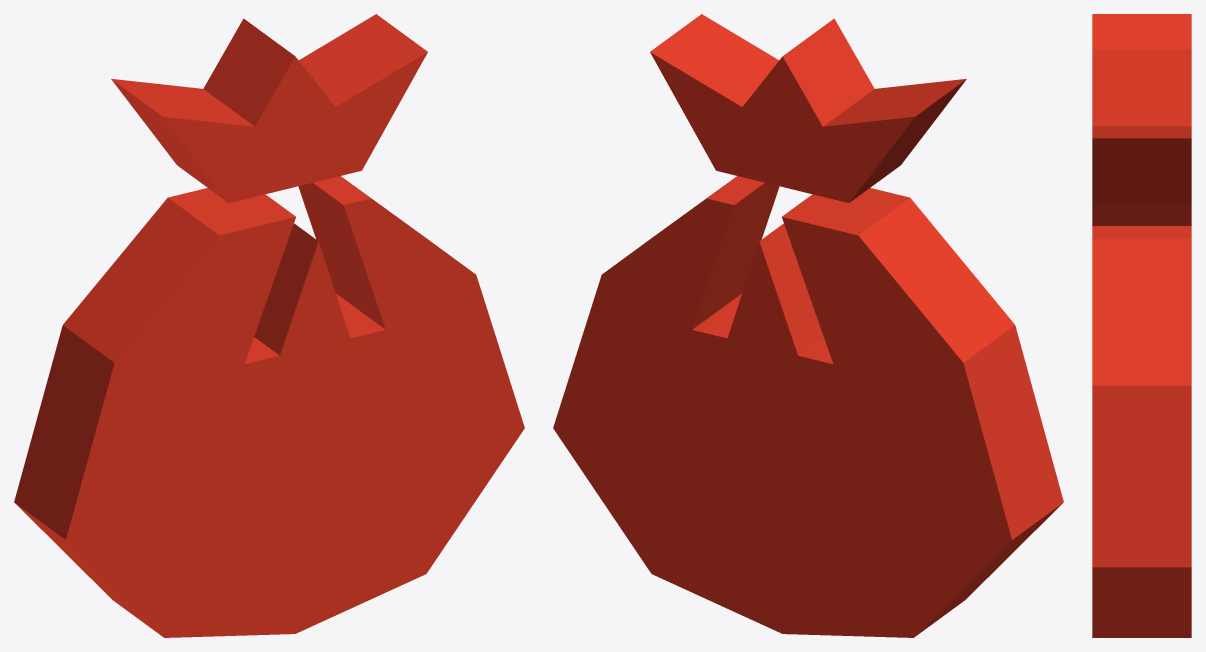
The model's file is Icon_Bag_02.fbx.
The picture shows the model from 3 angles, left to right: view 1: azimuth 30°, elevation 25°; view 2: azimuth 150°, elevation 25°; view 3: azimuth 270°, elevation 25°; orthographic projection. The views are drawn at different scales.
Visible parts, largest first — view 1: Icon_Bag_02; view 2: Icon_Bag_02; view 3: Icon_Bag_02.
Boxes of the visible parts, x1=… form: Icon_Bag_02: x1=14, y1=14, x2=524, y2=637; Icon_Bag_02: x1=553, y1=14, x2=1063, y2=637; Icon_Bag_02: x1=1092, y1=14, x2=1191, y2=637.
Bounding box in the file's own units: 61.72 × 74.23 × 12.06.
